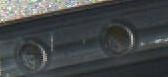joints: (100, 18, 135, 58), (15, 36, 50, 74)
